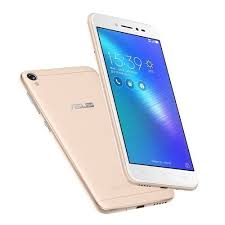asus: (17, 64, 175, 210), (85, 8, 202, 191)
